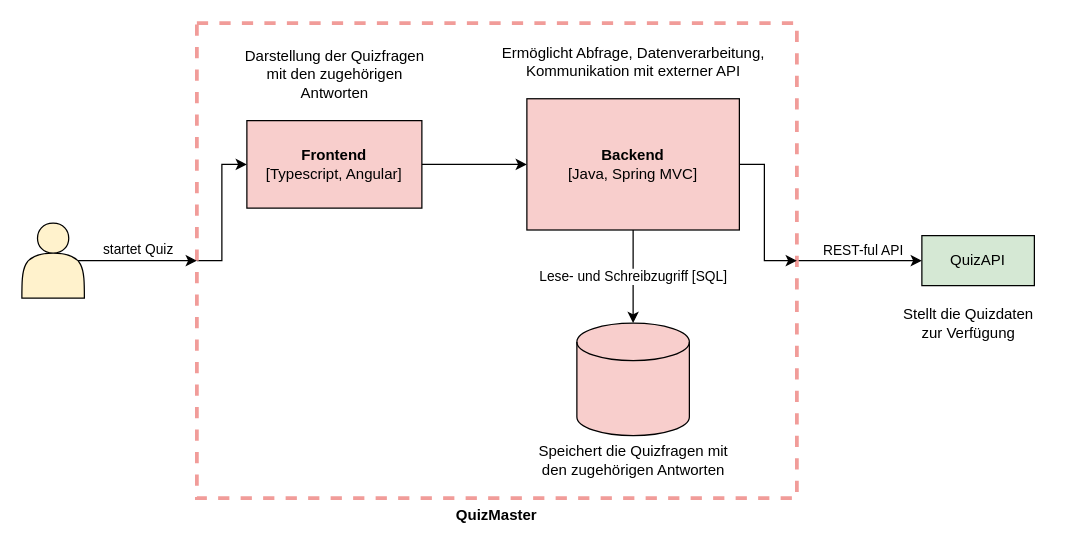
The diagram is 1065 pixels wide and 546 high, and some of its shapes have lost their labels. The shapes that lost their labels are listed below. From the top down, each one's centre as x and y in pixels, then its label:
At point (52, 260): "Benutzer".
At point (632, 379): "Datenbank [PostgreSQL]".
